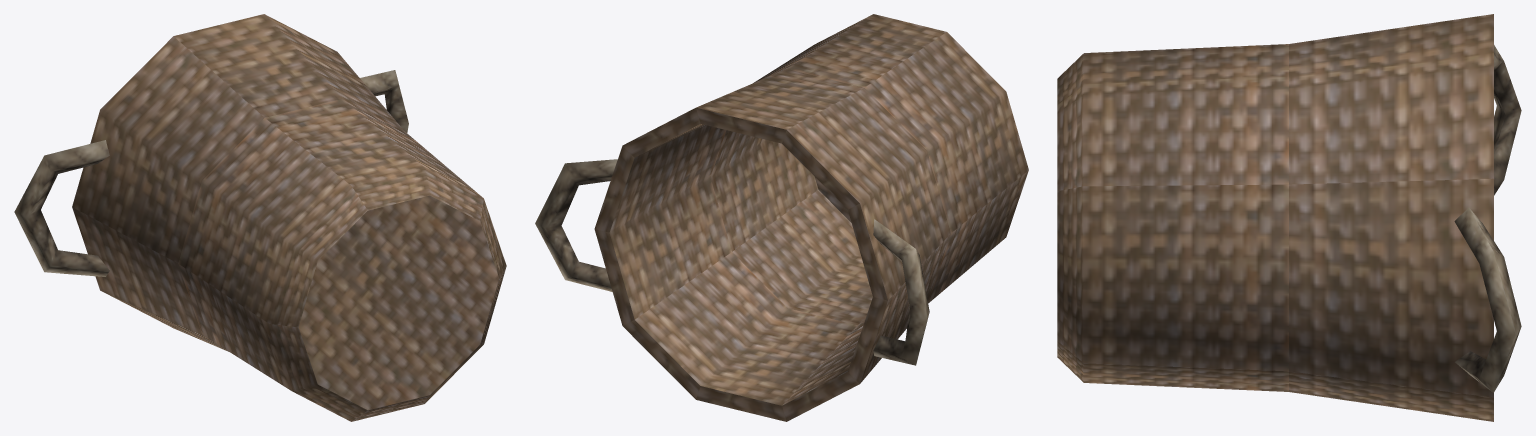
Rendered from Basket_Round_C.fbx.
3 renders of one model, left to right at view 1: azimuth 30°, elevation 25°; view 2: azimuth 150°, elevation 25°; view 3: azimuth 270°, elevation 25°, orthographic. The views are drawn at different scales.
Visible parts, largest first — view 1: Basket_Round_C; view 2: Basket_Round_C; view 3: Basket_Round_C.
Boxes of the visible parts, x1,y1,x2,y2 form: Basket_Round_C: (14, 14, 506, 421); Basket_Round_C: (535, 14, 1028, 421); Basket_Round_C: (1057, 14, 1521, 421).
Bounding box in the file's own units: 1.21 × 0.86 × 1.02.
